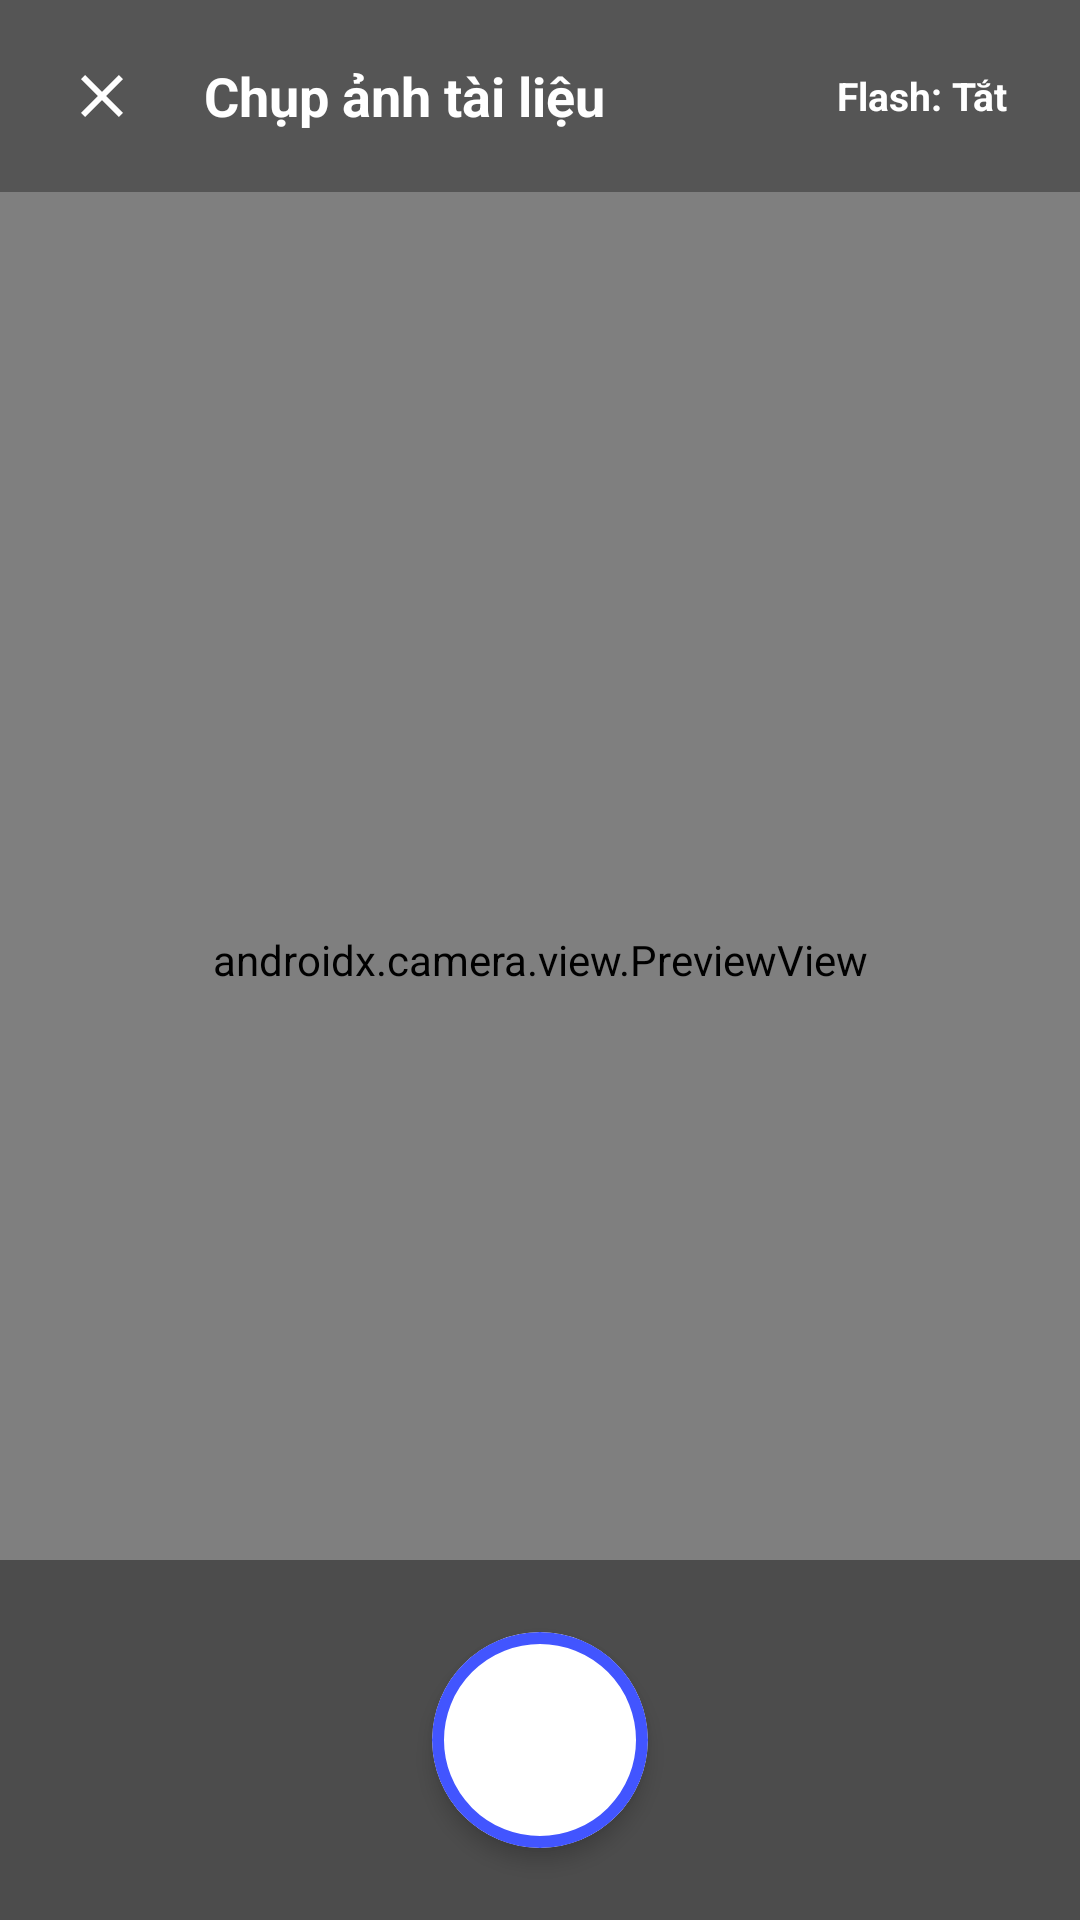

Where icons sit on this 1080 x 1920 app screen, as (x1=x1, y1=y1, x2=x2, y2=y2):
Close camera: (x1=81, y1=75, x2=123, y2=117)
